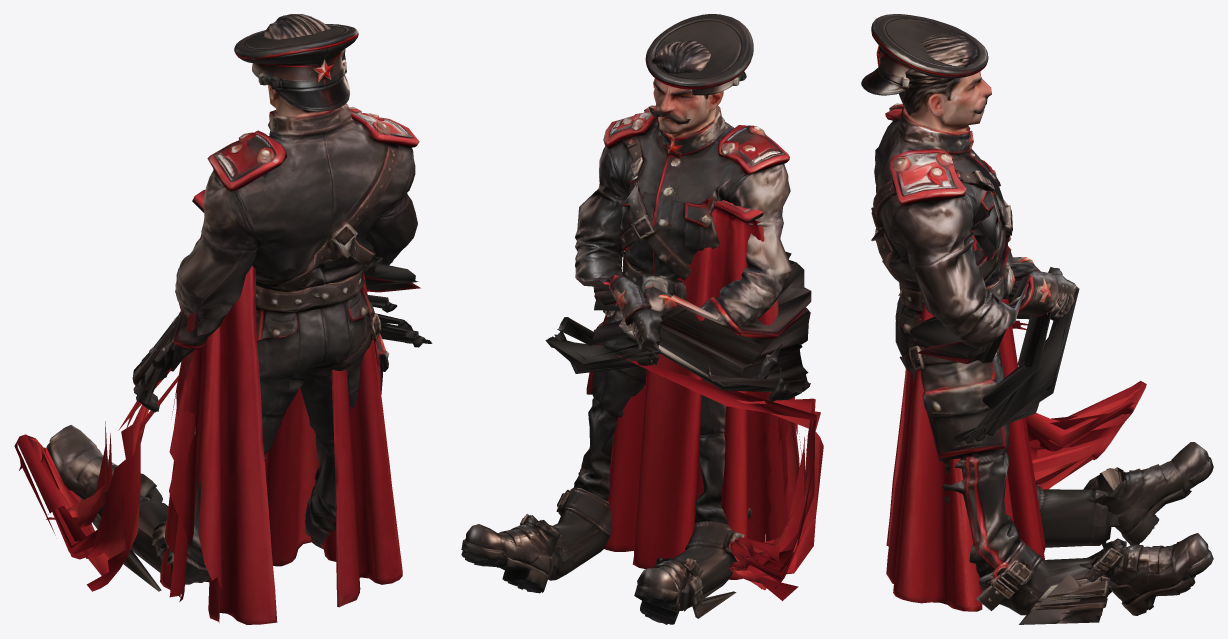
The model's file is tripo-officer-driver-test.glb.
The picture shows the model from 3 angles, left to right: view 1: azimuth 30°, elevation 25°; view 2: azimuth 150°, elevation 25°; view 3: azimuth 270°, elevation 25°; orthographic projection. The views are drawn at different scales.
Parts seen in each view (by area): view 1: Tripo officer Body, Tripo officer Cape, Tripo officer Cap; view 2: Tripo officer Body, Tripo officer Cape, Tripo officer Cap; view 3: Tripo officer Body, Tripo officer Cape, Tripo officer Cap.
Boxes of the visible parts, <box> form: Tripo officer Body: <box>14,14,432,591</box>; Tripo officer Cape: <box>160,189,402,624</box>; Tripo officer Cap: <box>234,24,358,111</box>; Tripo officer Body: <box>461,40,823,624</box>; Tripo officer Cape: <box>604,200,801,579</box>; Tripo officer Cap: <box>645,14,753,95</box>; Tripo officer Body: <box>871,33,1213,624</box>; Tripo officer Cape: <box>886,218,1045,611</box>; Tripo officer Cap: <box>861,14,988,95</box>.
Bounding box in the file's own units: 0.9475 × 1.65 × 0.9576.
Materials: 1 (1 with a texture image).
